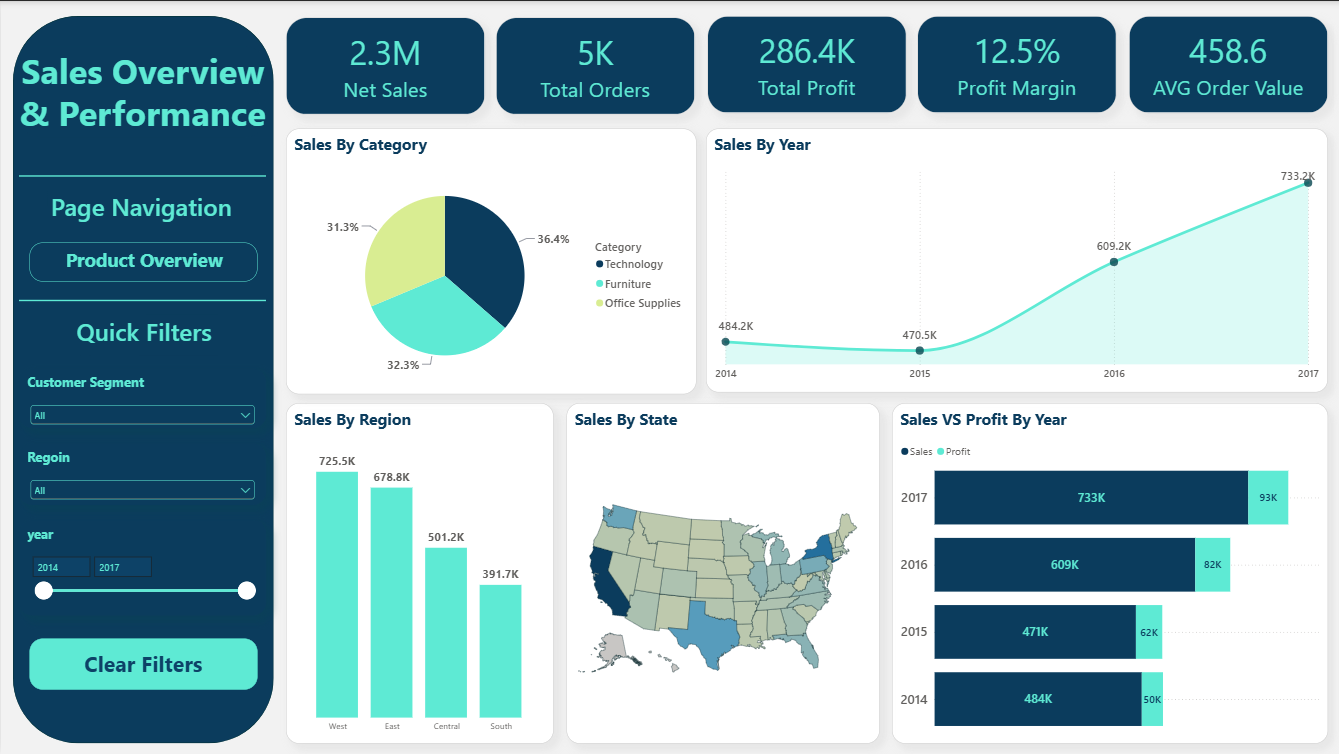

The dashboard page shown, as its layout file describes it:
{"tool":"powerbi","page":{"name":"SALES","canvas":[1920,1080],"ordinal":0},"visuals":[{"type":"cardVisual","fields":{"Data":["fact sales.Total Sales"]},"box":[407.4,24.4,285.5,139.1],"z":0},{"type":"cardVisual","fields":{"Data":["fact sales.Total Orders"]},"box":[710,24.4,285.5,139.1],"z":1000},{"type":"cardVisual","fields":{"Data":["Sum(fact sales.Profit)"]},"box":[1011.3,22,285.5,139.1],"z":2000},{"type":"cardVisual","fields":{"Data":["fact sales.Profit Margin"]},"box":[1313.2,22,285.5,139.1],"z":3000},{"type":"cardVisual","fields":{"Data":["fact sales.AVG Order Value"]},"box":[1615.2,22,285.5,139.1],"z":4000},{"type":"clusteredColumnChart","title":"Sales By Region","fields":{"Category":["Dimcity.Region"],"Y":["fact sales.Total Sales"]},"box":[407.4,575.8,383.1,488],"z":5000},{"type":"pieChart","title":"Sales By Category","fields":{"Category":["Dimproduct.Category"],"Y":["fact sales.Total Sales"]},"box":[407.4,183,588,380.6],"z":6000},{"type":"barChart","title":"Sales VS Profit By Year","fields":{"Category":["Dimdate.year"],"Y":["fact sales.Total Sales","Sum(fact sales.Profit)"]},"box":[1276,575.8,624.6,488],"z":7000},{"type":"shapeMap","title":"Sales By State","fields":{"Category":["Dimcity.State"],"Value":["fact sales.Total Sales"]},"box":[810,575.8,448.9,488],"z":8000},{"type":"shape","box":[17.1,22,373.3,1041.8],"z":9000},{"type":"slicer","title":"year","fields":{"Values":["Dimdate.year"]},"box":[26.8,744.1,353.8,136.6],"z":10000},{"type":"slicer","title":"Regoin","fields":{"Values":["Dimcity.Region"]},"box":[26.8,634.4,353.8,87.8],"z":11000},{"type":"slicer","title":"Customer Segment","fields":{"Values":["Dimcustomer.Segment"]},"box":[26.8,527,353.8,85.4],"z":12000},{"type":"textbox","title":"Sales Overview","box":[26.8,63.4,353.8,70.8],"z":13000},{"type":"actionButton","box":[41.5,912.5,326.9,73.2],"z":14000},{"type":"shape","box":[26.8,407.4,353.8,41.5],"z":15000},{"type":"textbox","title":"Quick Filters","box":[102.5,448.9,207.4,58.6],"z":16000},{"type":"textbox","title":"Page Navigation","box":[65.9,270.8,275.7,58.6],"z":17000},{"type":"actionButton","title":"Product Overview","box":[41.5,346.5,326.9,56.1],"z":18000},{"type":"textbox","title":"& Performance","box":[26.8,124.4,353.8,70.8],"z":19000},{"type":"lineChart","title":"Sales By Year","fields":{"Category":["Dimdate.year","Dimdate.quarter"],"Y":["Sum(fact sales.Sales)"]},"box":[1010.1,183,890.5,378.2],"z":20000},{"type":"shape","box":[26.8,229.3,353.8,41.5],"z":21000}]}

Visuals, with their boxes in screenshot pixels (x1, y1, x2, y2), scaled from the page's 1920x1080 canvas onto the 1339x754 screenshot:
cardVisual - fact sales.Total Sales: bbox=(284, 17, 483, 114)
cardVisual - fact sales.Total Orders: bbox=(495, 17, 694, 114)
cardVisual - Sum(fact sales.Profit): bbox=(705, 15, 904, 112)
cardVisual - fact sales.Profit Margin: bbox=(916, 15, 1115, 112)
cardVisual - fact sales.AVG Order Value: bbox=(1126, 15, 1326, 112)
"Sales By Region" clusteredColumnChart: bbox=(284, 402, 551, 743)
"Sales By Category" pieChart: bbox=(284, 128, 694, 393)
"Sales VS Profit By Year" barChart: bbox=(890, 402, 1325, 743)
"Sales By State" shapeMap: bbox=(565, 402, 878, 743)
shape: bbox=(12, 15, 272, 743)
"year" slicer: bbox=(19, 519, 265, 615)
"Regoin" slicer: bbox=(19, 443, 265, 504)
"Customer Segment" slicer: bbox=(19, 368, 265, 428)
"Sales Overview" textbox: bbox=(19, 44, 265, 94)
actionButton: bbox=(29, 637, 257, 688)
shape: bbox=(19, 284, 265, 313)
"Quick Filters" textbox: bbox=(71, 313, 216, 354)
"Page Navigation" textbox: bbox=(46, 189, 238, 230)
"Product Overview" actionButton: bbox=(29, 242, 257, 281)
"& Performance" textbox: bbox=(19, 87, 265, 136)
"Sales By Year" lineChart: bbox=(704, 128, 1325, 392)
shape: bbox=(19, 160, 265, 189)
